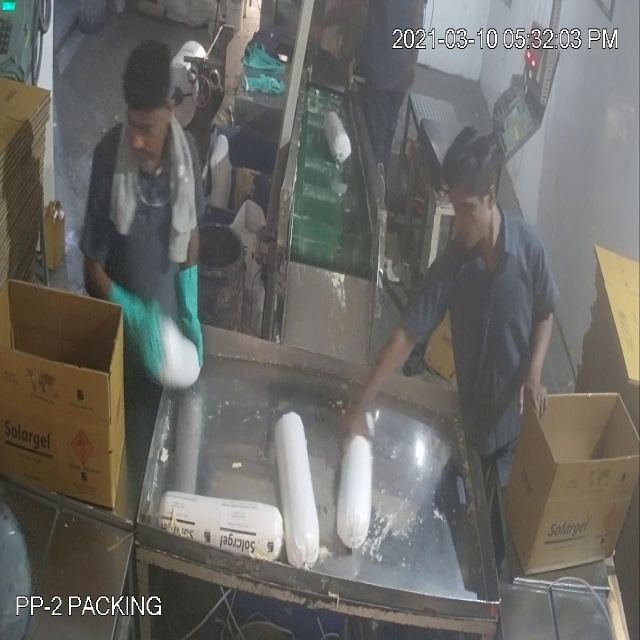Guantes: (102, 268, 168, 385), (170, 260, 214, 378)
Sin_guantes: (329, 291, 424, 467), (511, 298, 570, 428)
